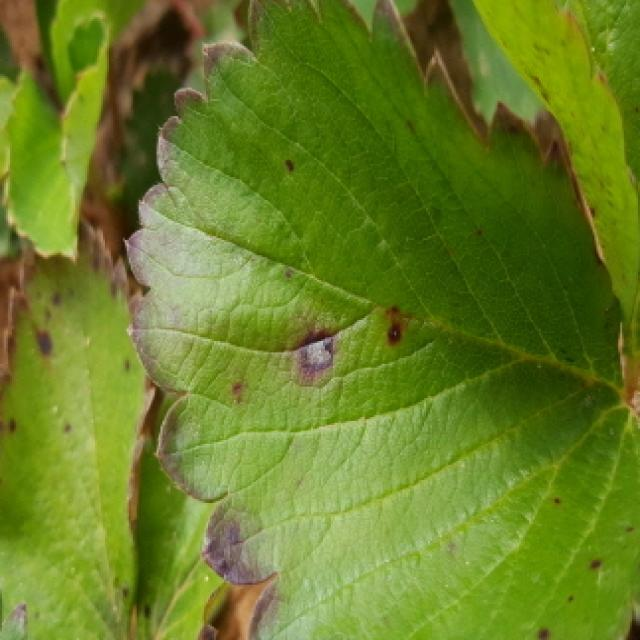Leaf Spot: (124, 0, 640, 640), (0, 211, 167, 640), (470, 0, 640, 366), (134, 452, 272, 640)
